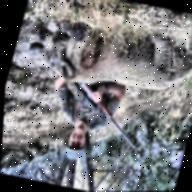boar: (17, 0, 192, 116)
